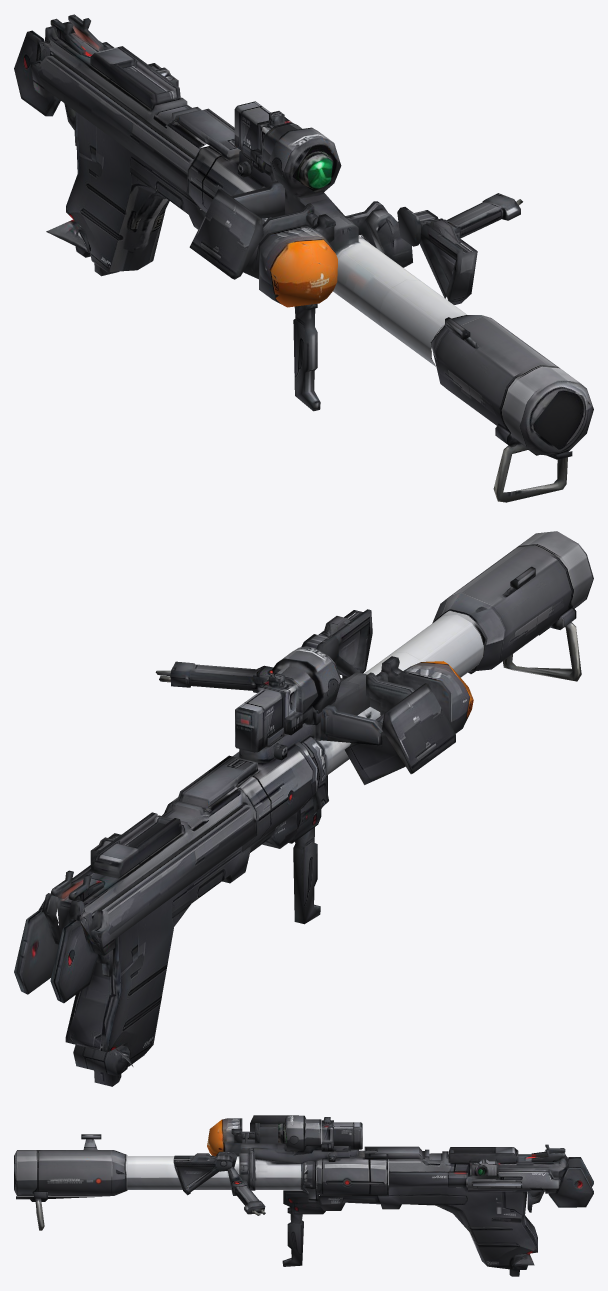
3 renders of one model, top to bottom at view 1: azimuth 30°, elevation 25°; view 2: azimuth 150°, elevation 25°; view 3: azimuth 270°, elevation 25°, orthographic. The views are drawn at different scales.
Parts seen in each view (by area): view 1: gun; view 2: gun; view 3: gun.
Boxes of the visible parts, x1,y1,x2,y2 form: gun: [14, 14, 593, 502]; gun: [14, 531, 593, 1086]; gun: [14, 1115, 593, 1276].
Bounding box in the file's own units: 2.54 × 2.33 × 7.78.
Materials: 1 (1 with a texture image).
